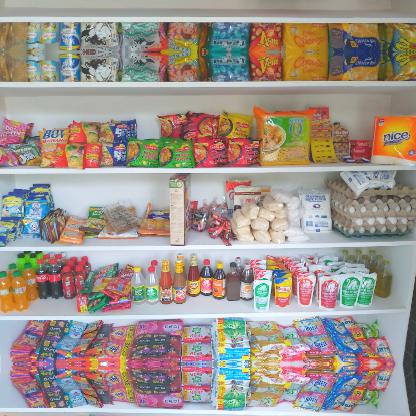Koko-Krunch: (168, 172, 194, 246)
